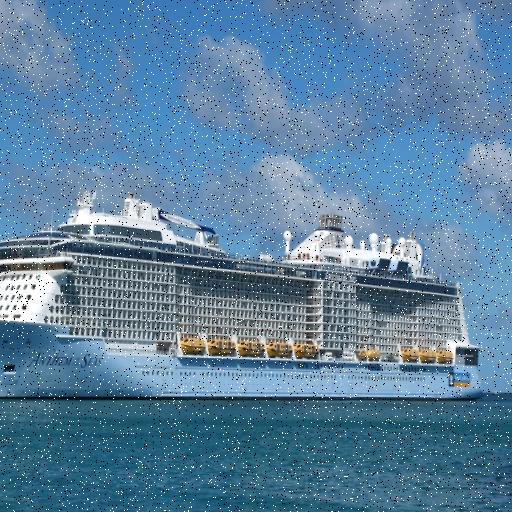cruises: (1, 189, 487, 408)
